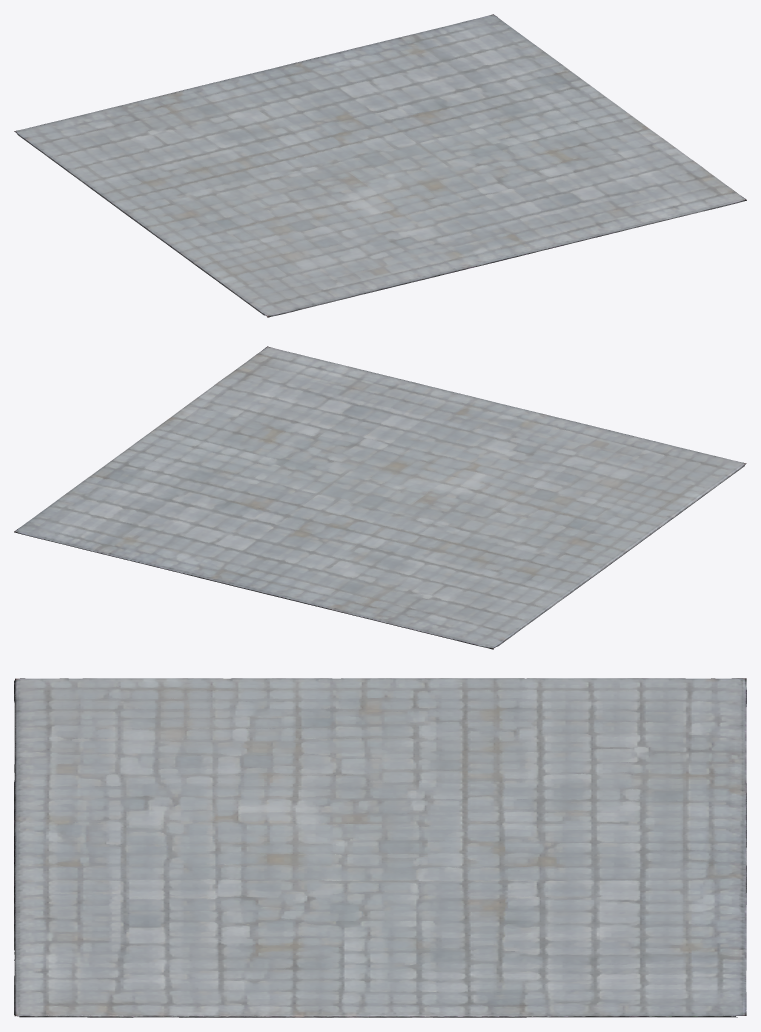
The model's file is nen.glb.
The picture shows the model from 3 angles, top to bottom: view 1: azimuth 30°, elevation 25°; view 2: azimuth 150°, elevation 25°; view 3: azimuth 270°, elevation 25°; orthographic projection. The views are drawn at different scales.
Parts seen in each view (by area): view 1: world; view 2: world; view 3: world.
Boxes of the visible parts, <box> form: world: <box>14,14,746,317</box>; world: <box>14,346,746,649</box>; world: <box>14,678,746,1017</box>.
Size of the model in its own units: 1 by 0.0044 by 0.9171.
1 material, 1 textured.
